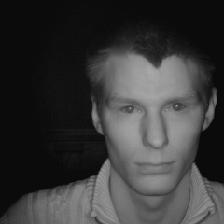normal: (61, 18, 222, 196)
